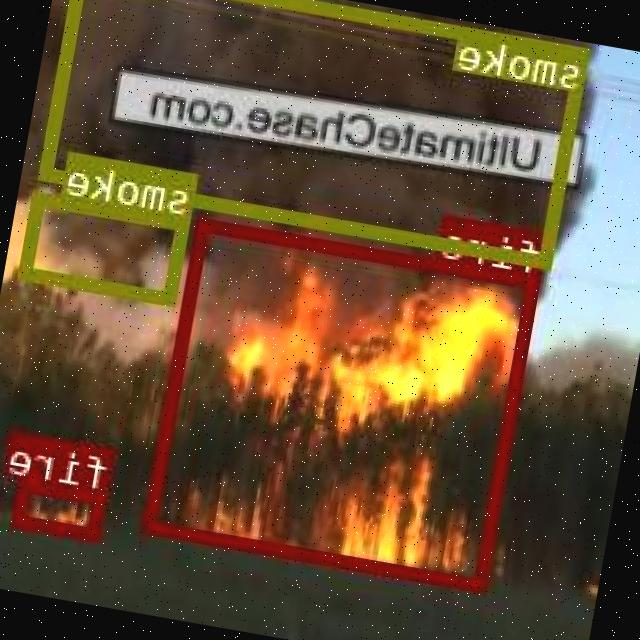fire: (144, 216, 543, 590), (14, 475, 111, 539)
smoke: (41, 0, 591, 265), (20, 189, 193, 304)
